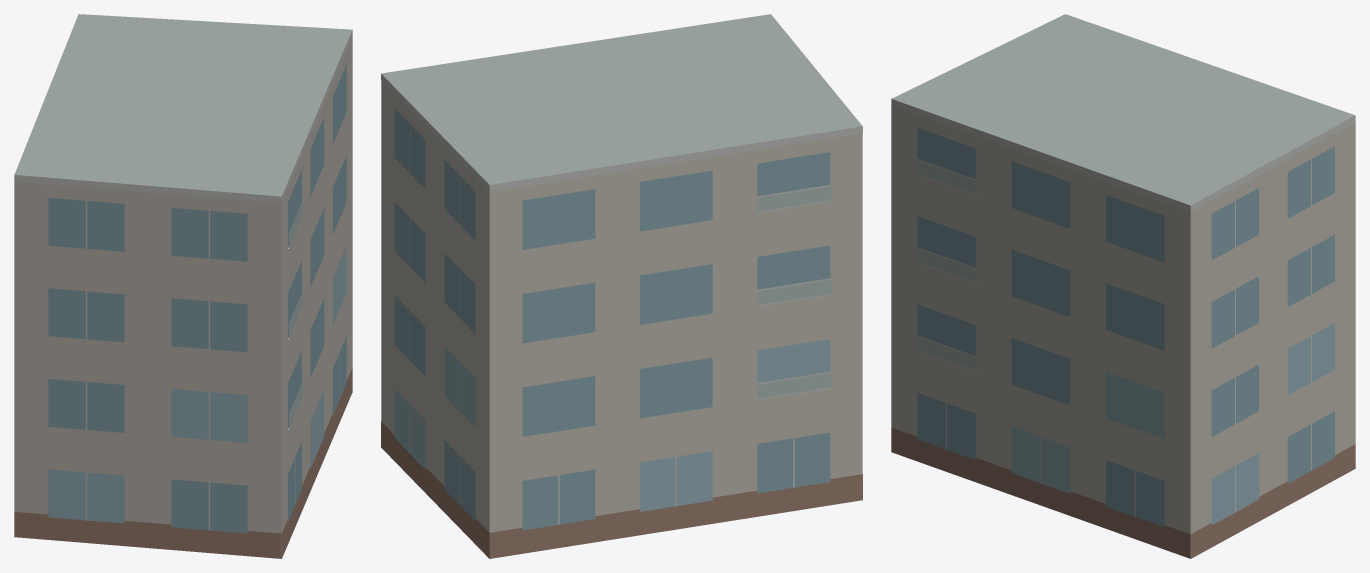
The model's file is survey-upis-32568512.glb.
3 views of the same model, side by side, from view 1: azimuth 30°, elevation 25°; view 2: azimuth 150°, elevation 25°; view 3: azimuth 270°, elevation 25° (orthographic). The views are drawn at different scales.
Visible parts, largest first — view 1: survey-upis-32568512.tmp; view 2: survey-upis-32568512.tmp; view 3: survey-upis-32568512.tmp.
Part boxes in pixels (box(x1,y1,x2,y2)): survey-upis-32568512.tmp: box(14, 14, 352, 558); survey-upis-32568512.tmp: box(381, 14, 862, 558); survey-upis-32568512.tmp: box(891, 14, 1355, 558).
Size of the model in its own units: 15.15 by 13.02 by 15.51.
